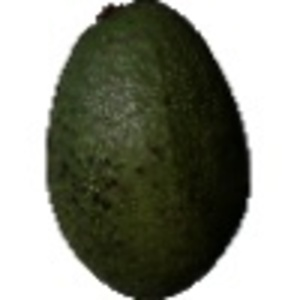abacate: (44, 3, 251, 297)
